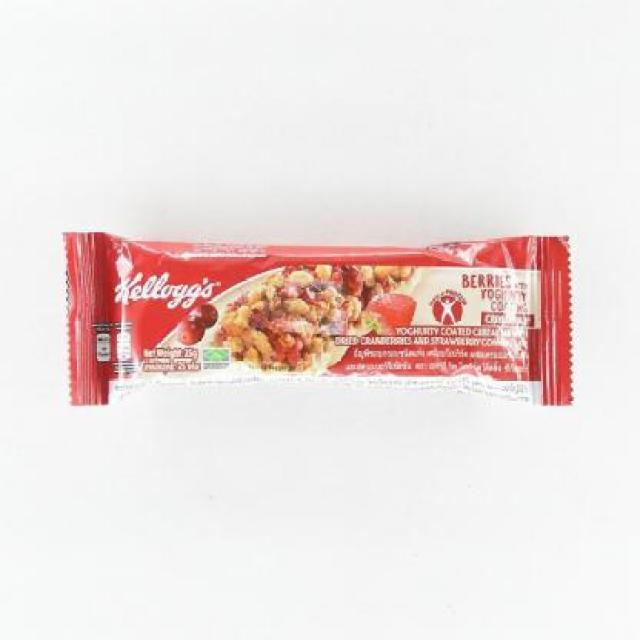Cereal bar: (52, 224, 590, 410)
